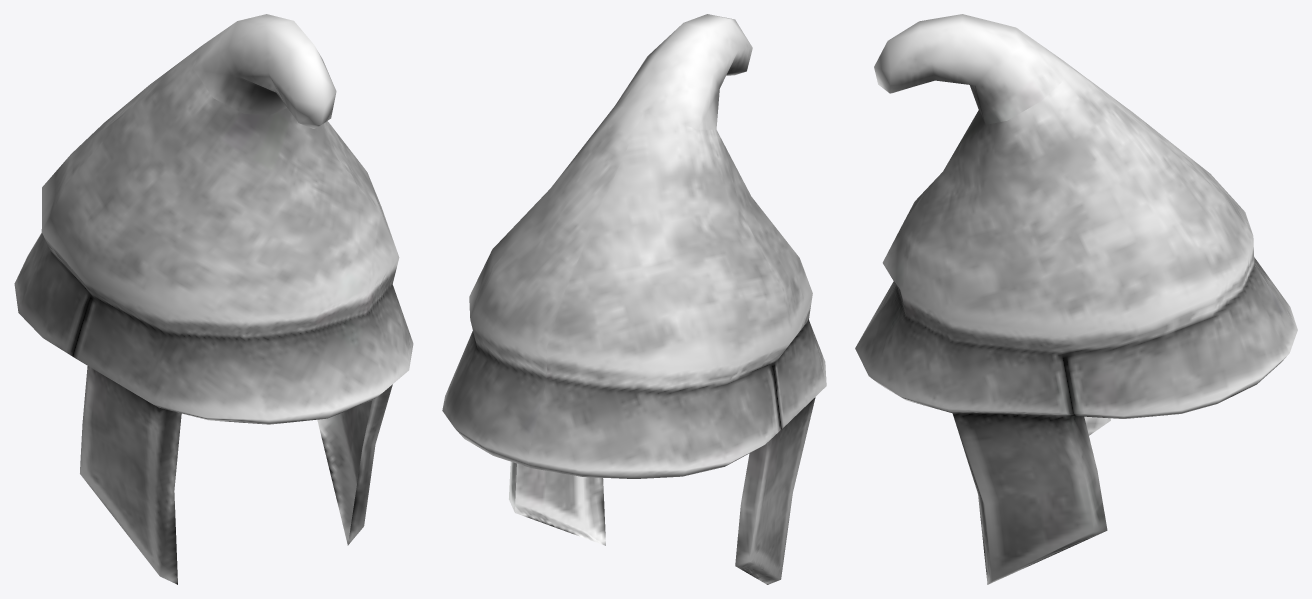
File: rider-helmet-slice-mediumcavalry.glb
3 views of the same model, side by side, from view 1: azimuth 30°, elevation 25°; view 2: azimuth 150°, elevation 25°; view 3: azimuth 270°, elevation 25° (orthographic). The views are drawn at different scales.
Bounding box in the file's own units: 0.2749 × 0.4706 × 0.3588.
Materials: 1 (1 with a texture image).
